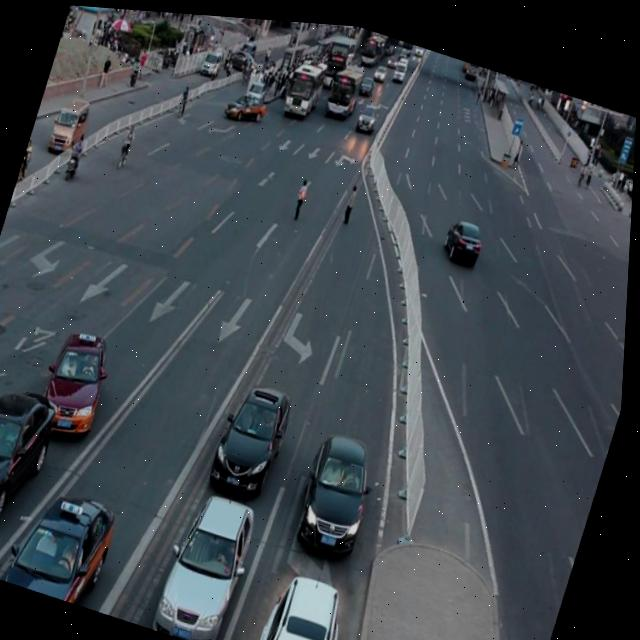car: (154, 476, 267, 640), (0, 470, 127, 609), (293, 418, 390, 556), (209, 367, 303, 501), (0, 369, 70, 543), (37, 320, 122, 443), (257, 557, 370, 640), (438, 205, 489, 261)
